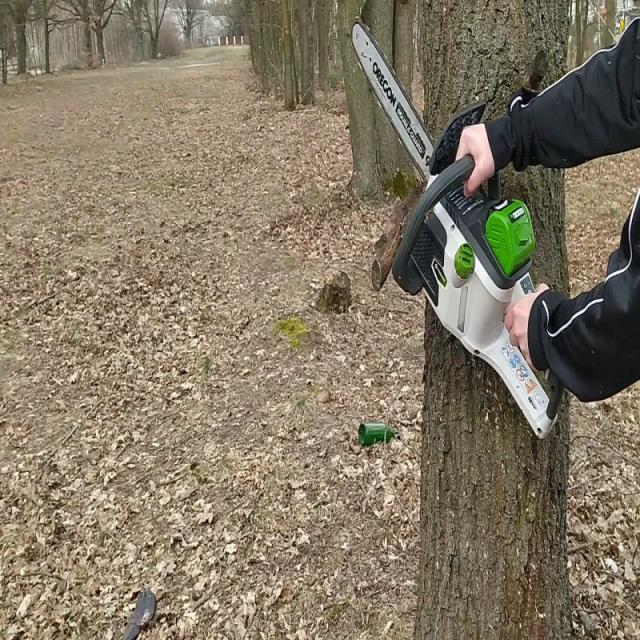Chainsaw: (350, 18, 568, 452)
